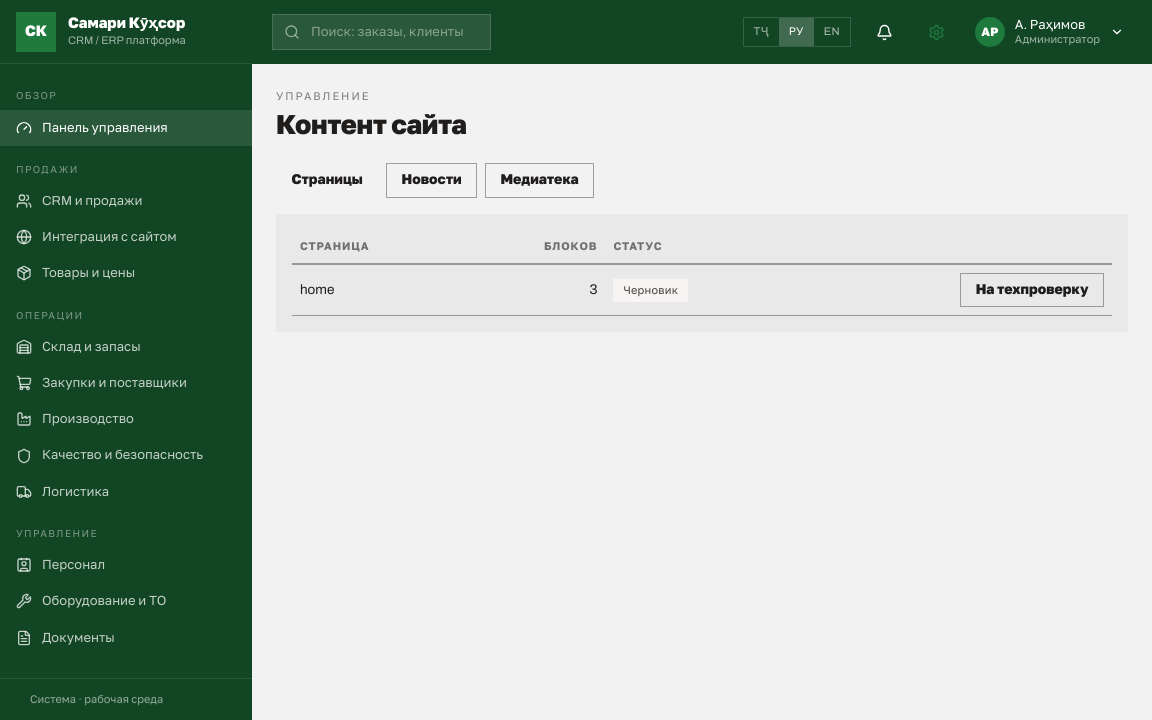
Test: news › names the missing translations in the list
The image size is (1152, 720).
Click the tab "Новости": (432, 180) [386, 163, 477, 198]
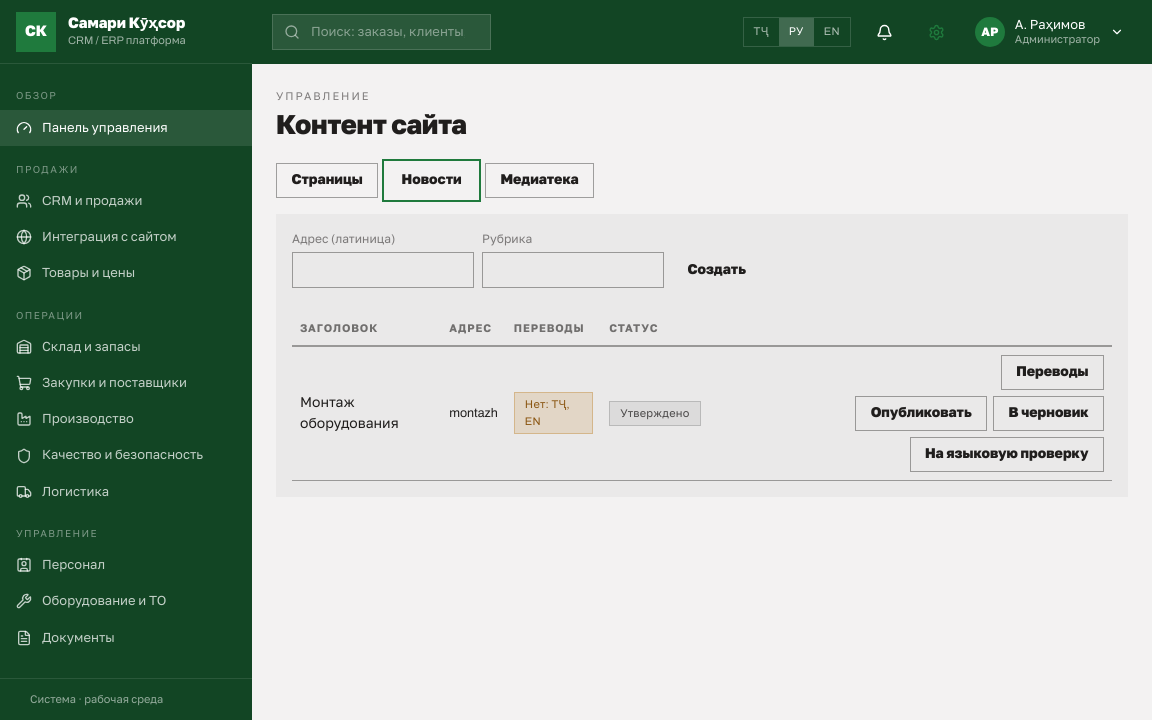
Expected: the text with test id "translations-missing" shows "ТҶ", [525, 398, 570, 427]
Expected: the text with test id "translations-missing" shows "EN", [525, 398, 570, 427]
